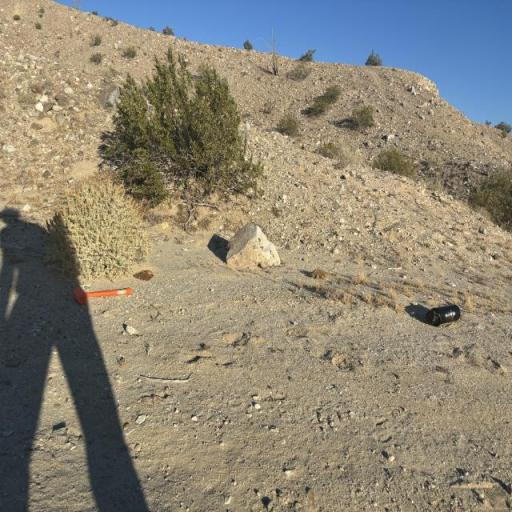bottle: (423, 294, 465, 332)
mallet: (66, 280, 140, 308)
